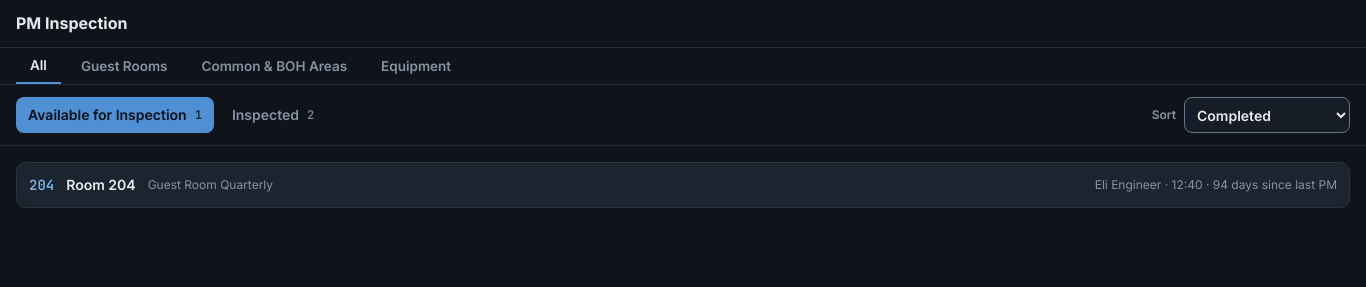
Test: InspectionPage › switches to the inspected list with results
Click the tab "Inspected 2": coordinates (273, 115) [220,97,326,133]
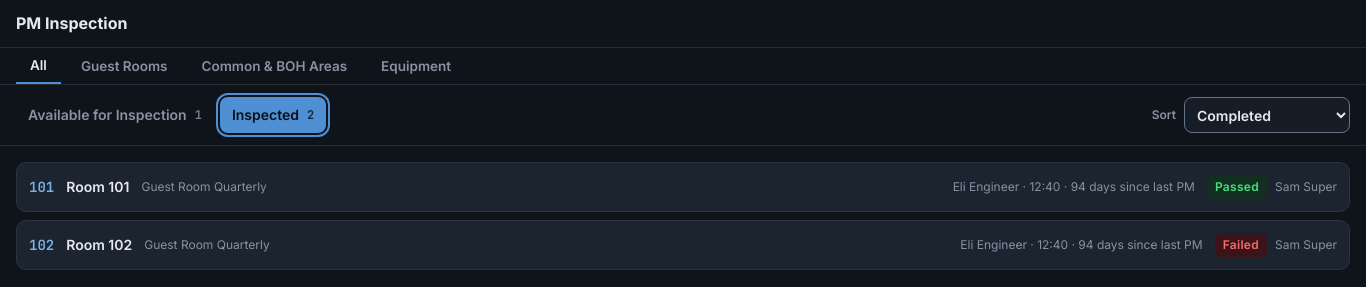
Expected: the text "Passed" is shown, [1207,175,1267,199]
Expected: the text "Failed" is shown, [1215,233,1267,257]
Expected: the text "Passed Sam Super" is shown 2 times, [1207,175,1337,199]; [1215,233,1337,257]
